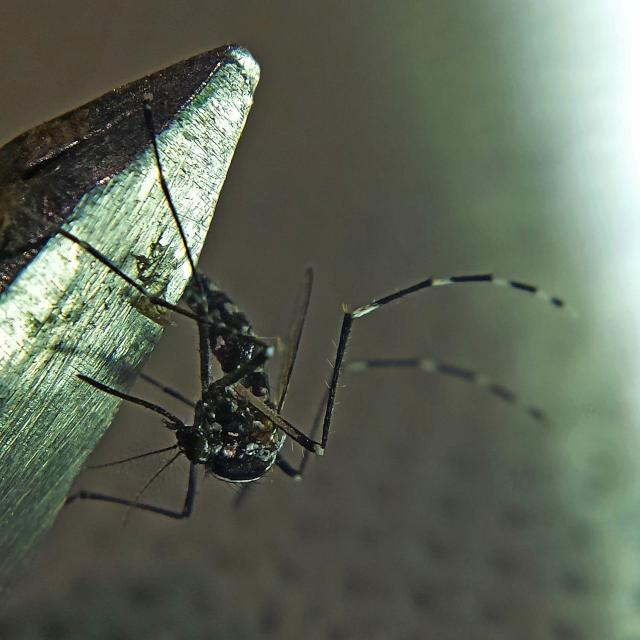albopictus: (55, 85, 557, 528)
